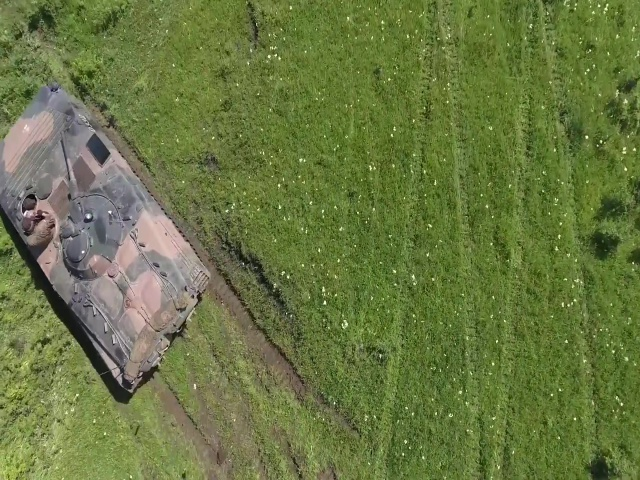vehicle: (1, 77, 212, 397)
